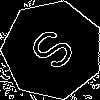S: (27, 25, 85, 80)
